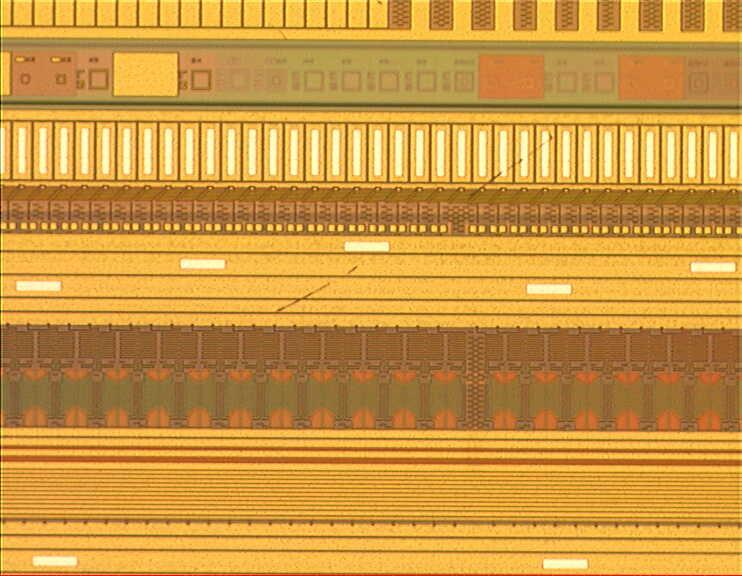SCRATCH: (232, 106, 609, 344)
